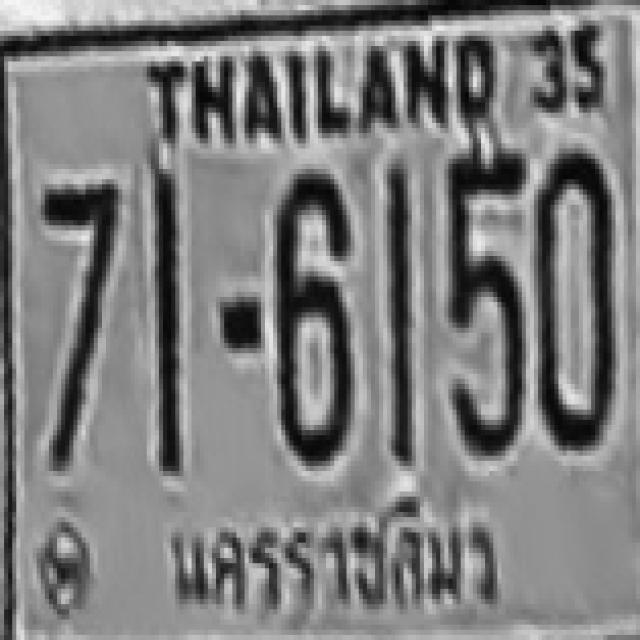0: (532, 146, 613, 443), (444, 215, 522, 451)
6: (273, 169, 351, 461)
7: (41, 182, 114, 428), (41, 182, 114, 371), (41, 179, 114, 348)
NakhonRatchasima: (158, 486, 518, 618)
